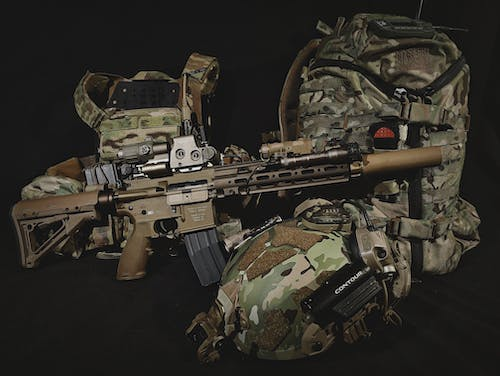gun: (6, 129, 444, 287)
